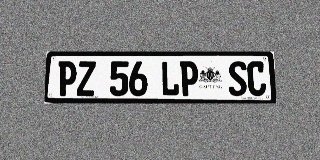5: (110, 61, 129, 96)
6: (129, 61, 148, 96)
C: (247, 61, 266, 96)
L: (161, 61, 179, 96)
P: (57, 61, 77, 96), (180, 61, 198, 96)
S: (228, 61, 247, 96)
Z: (76, 61, 96, 96)
